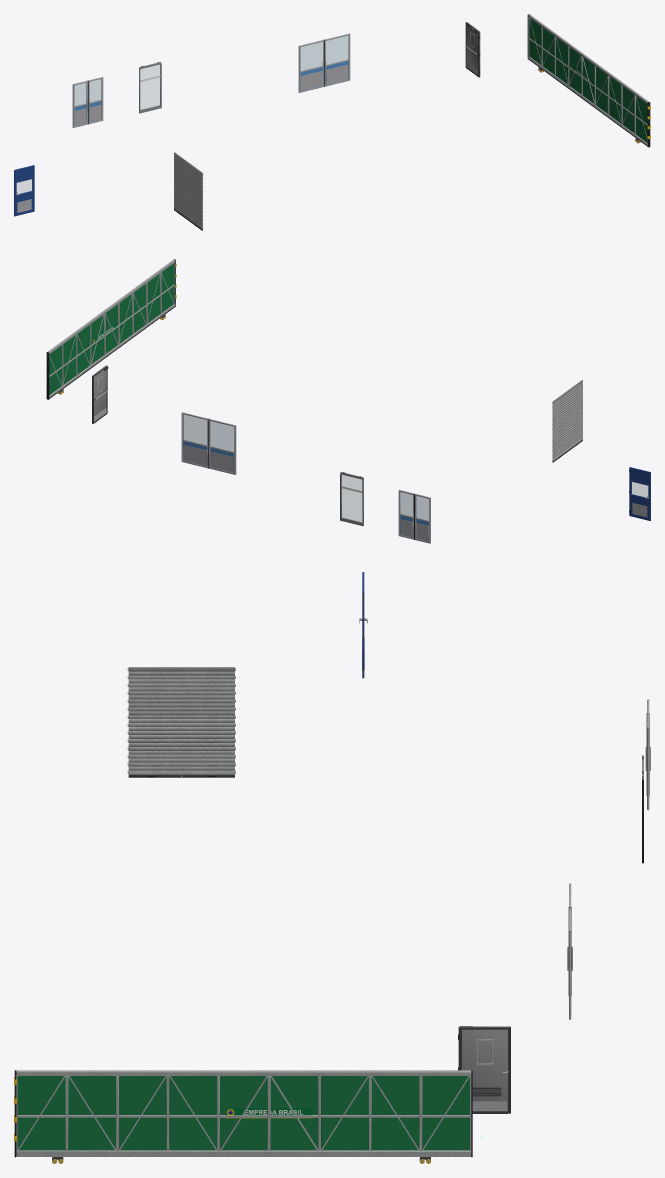
File: empresa_brasil_portoes.glb
3 views of the same model, one above another, from view 1: azimuth 30°, elevation 25°; view 2: azimuth 150°, elevation 25°; view 3: azimuth 270°, elevation 25° (orthographic). The views are drawn at different scales.
Visible parts, largest first — view 1: EB_Portao, EB_Oficina_Portao_Enrolar, EB_Porta_Impacto_Ensaque_D, EB_Porta_Impacto_Ensaque_E, EB_Porta_Auto_Folha, EB_Oficina_Porta, EB_Porta_Impacto_Preparo_E, EB_Porta_Entrada, EB_Porta_Impacto_Preparo_D; view 2: EB_Portao, EB_Oficina_Portao_Enrolar, EB_Porta_Impacto_Ensaque_E, EB_Porta_Impacto_Ensaque_D, EB_Porta_Auto_Folha, EB_Oficina_Porta, EB_Porta_Entrada, EB_Porta_Impacto_Preparo_D, EB_Porta_Impacto_Preparo_E; view 3: EB_Portao, EB_Oficina_Portao_Enrolar, EB_Porta_Entrada.
Part boxes in pixels (box(x1,y1,x2,y2)): EB_Portao: box(527, 14, 650, 147); EB_Oficina_Portao_Enrolar: box(174, 152, 203, 230); EB_Porta_Impacto_Ensaque_D: box(324, 33, 350, 86); EB_Porta_Impacto_Ensaque_E: box(298, 39, 324, 92); EB_Porta_Auto_Folha: box(139, 62, 161, 113); EB_Oficina_Porta: box(14, 165, 34, 216); EB_Porta_Impacto_Preparo_E: box(72, 80, 88, 127); EB_Porta_Entrada: box(465, 22, 480, 77); EB_Porta_Impacto_Preparo_D: box(88, 77, 103, 124); EB_Portao: box(46, 259, 176, 399); EB_Oficina_Portao_Enrolar: box(552, 380, 582, 462); EB_Porta_Impacto_Ensaque_E: box(208, 419, 236, 474); EB_Porta_Impacto_Ensaque_D: box(181, 412, 208, 468); EB_Porta_Auto_Folha: box(340, 472, 363, 526); EB_Oficina_Porta: box(629, 467, 650, 520); EB_Porta_Entrada: box(92, 365, 108, 423); EB_Porta_Impacto_Preparo_D: box(398, 490, 414, 539); EB_Porta_Impacto_Preparo_E: box(414, 493, 430, 543); EB_Portao: box(14, 1070, 472, 1163); EB_Oficina_Portao_Enrolar: box(127, 667, 235, 777); EB_Porta_Entrada: box(458, 1026, 510, 1113).
Bounding box in the file's own units: 27.33 × 2.64 × 13.86.
Materials: 7 (5 with a texture image).
